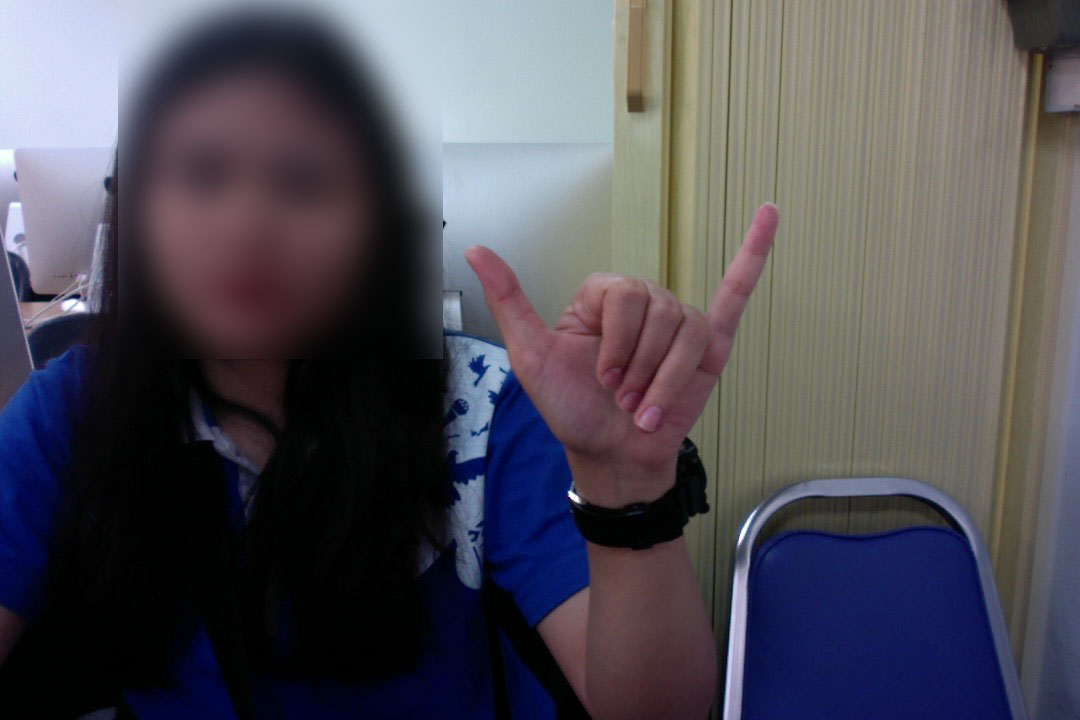yor: (457, 198, 791, 501)
